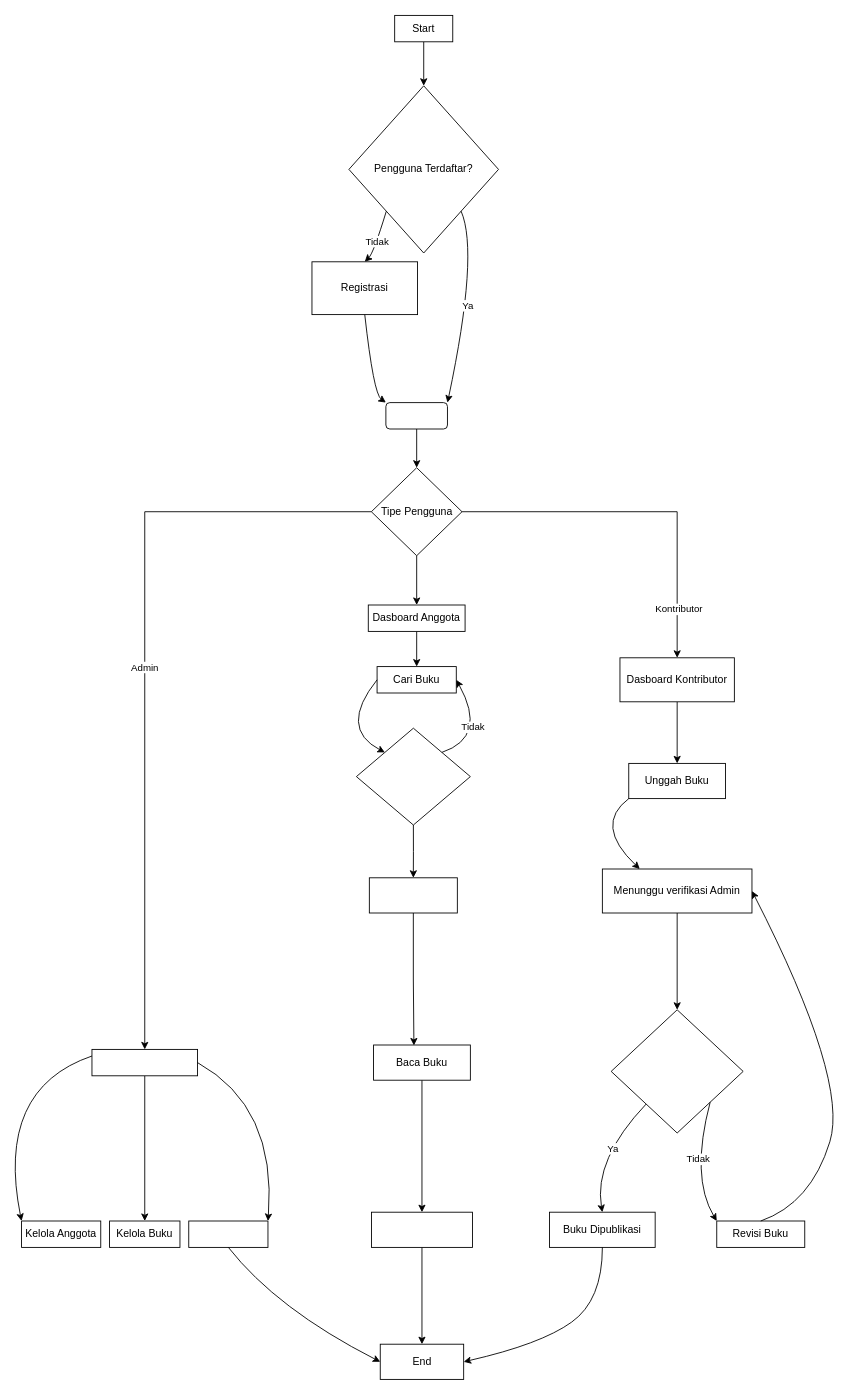
This 849x1395 diagram has some shape labels left out. The shapes that lost their labels are listed below. From the top down, each one's centre as x and y in pixels, then its label:
At (x=416, y=415): "Login".
At (x=413, y=776): "Buku Tersedia".
At (x=412, y=895): "Pinjam Buku".
At (x=144, y=1062): "Dasboard Admin".
At (x=676, y=1071): "Disetujui".
At (x=228, y=1233): "Lihat laporan".
At (x=421, y=1229): "Beri Rating/Ulasan".
